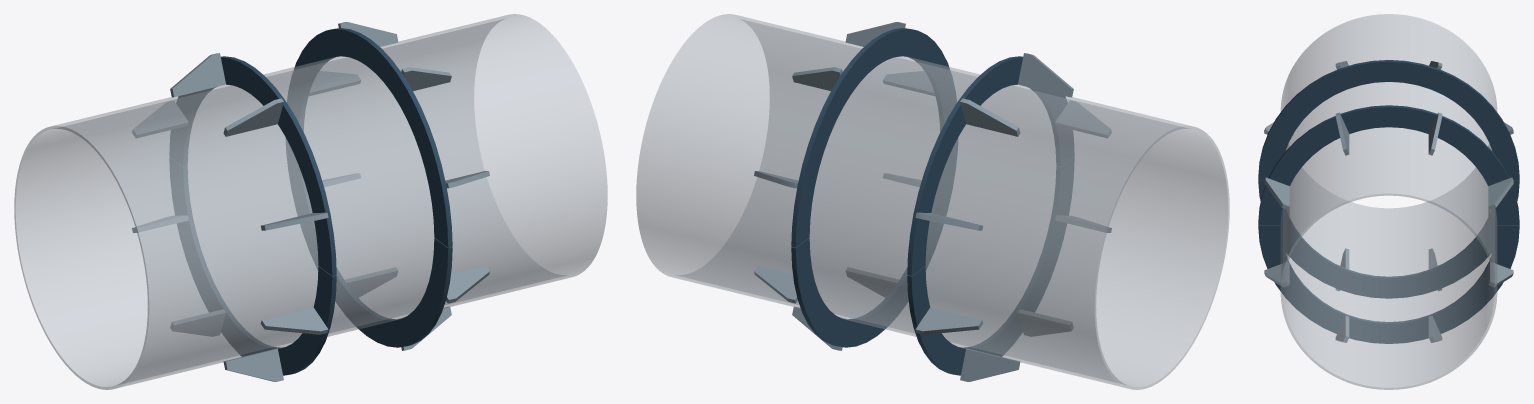
File: TS-666.00.00-10-opora-dn630-D760.glb
The picture shows the model from 3 angles, left to right: view 1: azimuth 30°, elevation 25°; view 2: azimuth 150°, elevation 25°; view 3: azimuth 270°, elevation 25°; orthographic projection. The views are drawn at different scales.
Parts seen in each view (by area): view 1: truba, polukoltso_1, polukoltso_16, polukoltso_6, polukoltso_11, rebro_8, rebro_18, rebro_17, rebro_7, rebro_9, rebro_19, rebro_12 (+5 smaller); view 2: truba, polukoltso_1, polukoltso_16, polukoltso_6, polukoltso_11, rebro_9, rebro_19, rebro_20, rebro_10, rebro_8, rebro_18, rebro_15 (+5 smaller); view 3: truba, polukoltso_6, polukoltso_1, polukoltso_11, polukoltso_16, rebro_2, rebro_5, rebro_12, rebro_15, rebro_3, rebro_4, rebro_13 (+1 smaller).
Part boxes in pixels (bbox=[...]): truba: bbox=[14, 14, 607, 389]; polukoltso_1: bbox=[287, 28, 452, 247]; polukoltso_16: bbox=[169, 158, 336, 375]; polukoltso_6: bbox=[169, 56, 336, 275]; polukoltso_11: bbox=[286, 139, 452, 347]; rebro_8: bbox=[170, 53, 225, 97]; rebro_18: bbox=[223, 348, 283, 381]; rebro_17: bbox=[260, 307, 328, 334]; rebro_7: bbox=[132, 101, 188, 137]; rebro_9: bbox=[223, 98, 283, 136]; rebro_19: bbox=[170, 309, 225, 336]; rebro_12: bbox=[446, 265, 489, 303]; truba: bbox=[636, 14, 1229, 389]; polukoltso_1: bbox=[791, 28, 956, 247]; polukoltso_16: bbox=[907, 158, 1074, 375]; polukoltso_6: bbox=[907, 56, 1074, 275]; polukoltso_11: bbox=[791, 139, 957, 347]; rebro_9: bbox=[1018, 53, 1073, 97]; rebro_19: bbox=[960, 348, 1020, 381]; rebro_20: bbox=[915, 307, 983, 334]; rebro_10: bbox=[1055, 101, 1111, 137]; rebro_8: bbox=[960, 98, 1020, 136]; rebro_18: bbox=[1018, 309, 1073, 336]; rebro_15: bbox=[754, 265, 797, 303]; truba: bbox=[1280, 14, 1497, 389]; polukoltso_6: bbox=[1258, 60, 1519, 179]; polukoltso_1: bbox=[1258, 105, 1519, 225]; polukoltso_11: bbox=[1258, 225, 1519, 343]; polukoltso_16: bbox=[1258, 180, 1519, 298]; rebro_2: bbox=[1488, 177, 1513, 209]; rebro_5: bbox=[1264, 177, 1289, 209]; rebro_12: bbox=[1264, 262, 1289, 287]; rebro_15: bbox=[1488, 262, 1513, 287]; rebro_3: bbox=[1428, 112, 1442, 155]; rebro_4: bbox=[1335, 112, 1349, 155]; rebro_13: bbox=[1335, 316, 1349, 342].
Size of the model in its own units: 1234 by 760 by 760.
